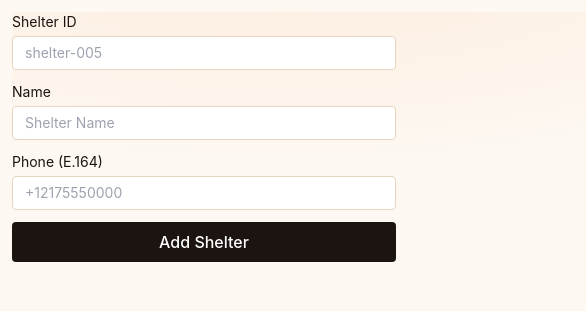
AddShelterForm › shows success message and clears fields on 201
The width and height of the screenshot is (586, 311).
Type "s1" into the field with placeholder "shelter-005" at (204, 53), box [12, 36, 396, 70]
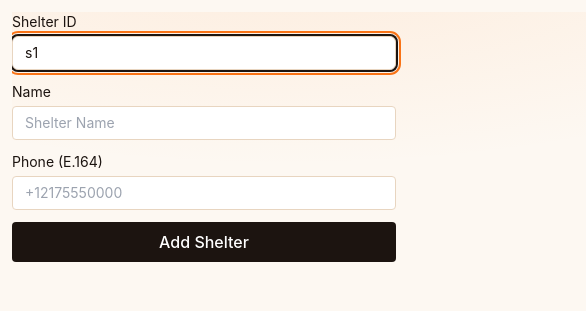
Type "Test Shelter" into the field with placeholder "Shelter Name" at (204, 123), box [12, 106, 396, 140]
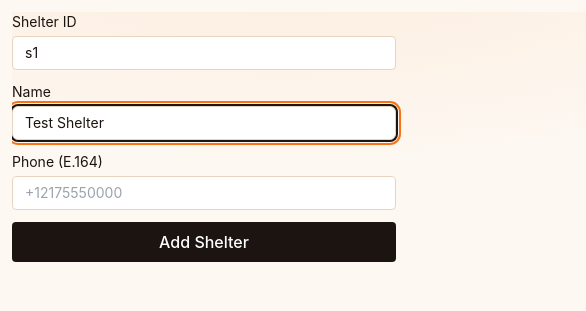
Type "+15550001111" into the field with placeholder "+12175550000" at (204, 193), box [12, 176, 396, 210]
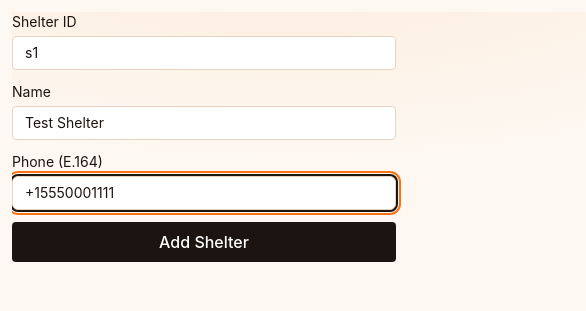
Click the button "Add Shelter" at (204, 242), box [12, 222, 396, 262]
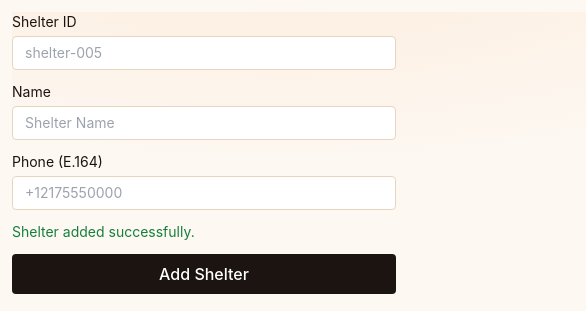
Check: the message reads "Shelter added successfully.", box [12, 223, 195, 240]
Check: the field with placeholder "shelter-005" is empty, box [12, 36, 396, 70]
